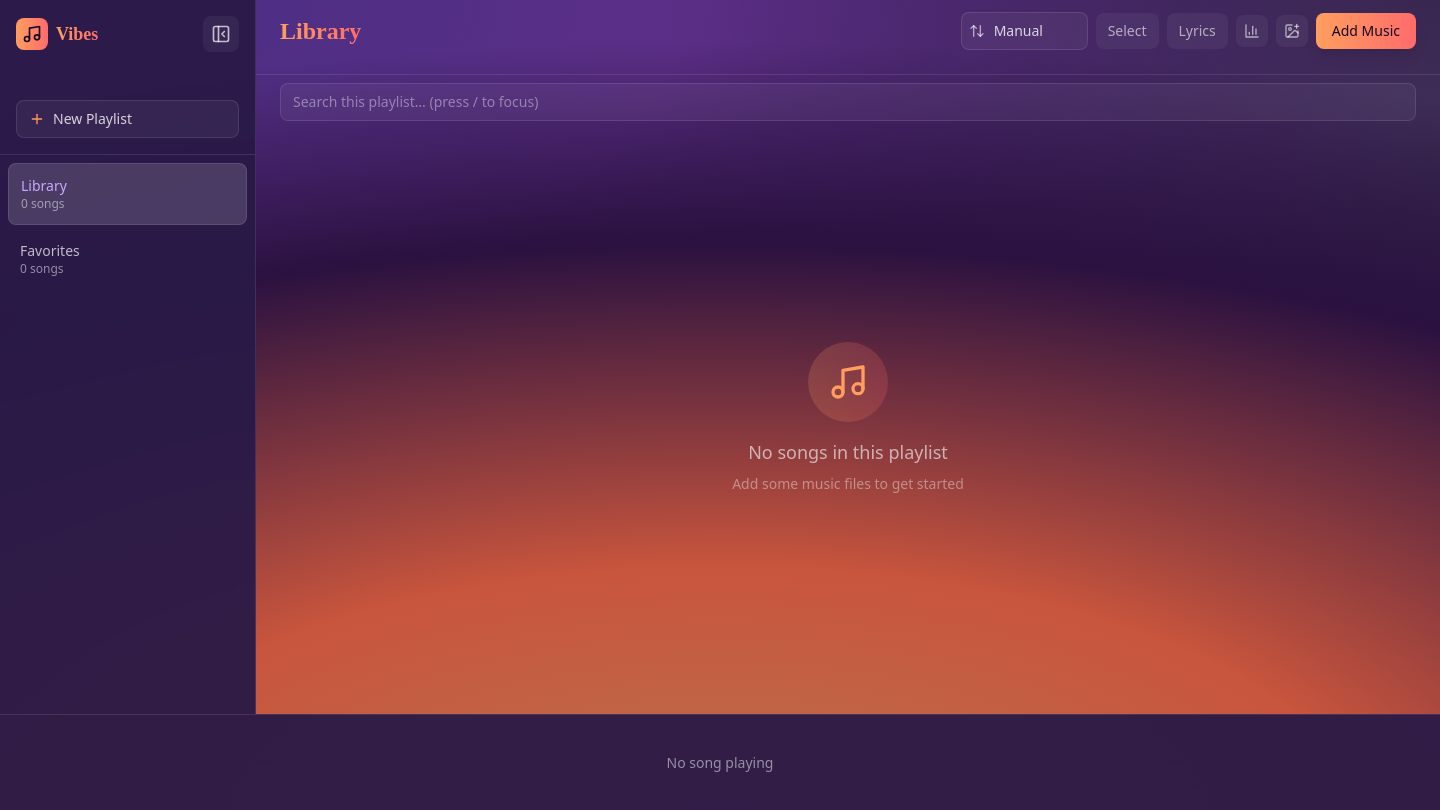
Test: App › creates a playlist through the prompt flow
Step 1. Click the button "New Playlist" → (128, 119), box [16,100,239,138]
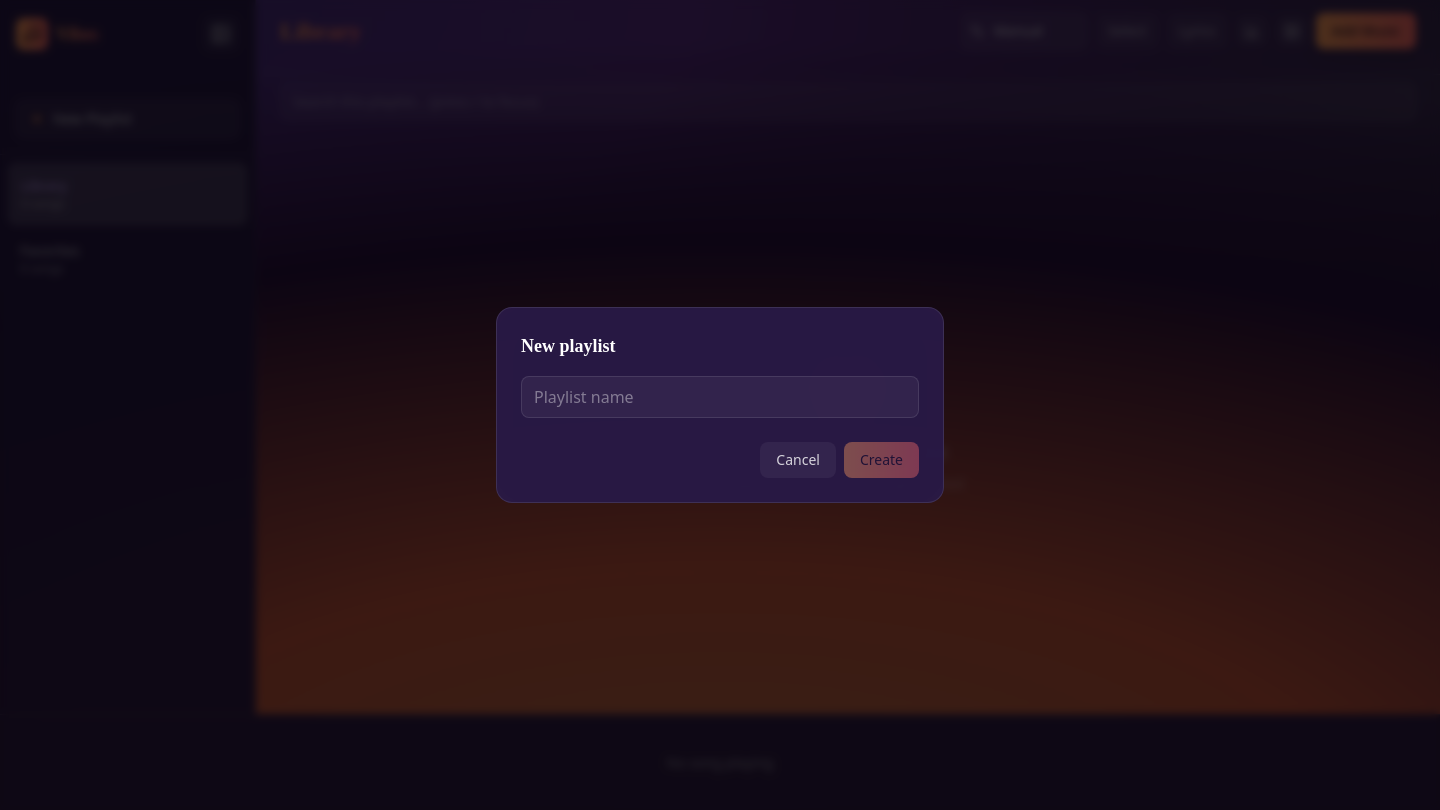
Step 2. Type "Chill" into the field with placeholder "Playlist name" → (720, 397), box [521,376,919,418]
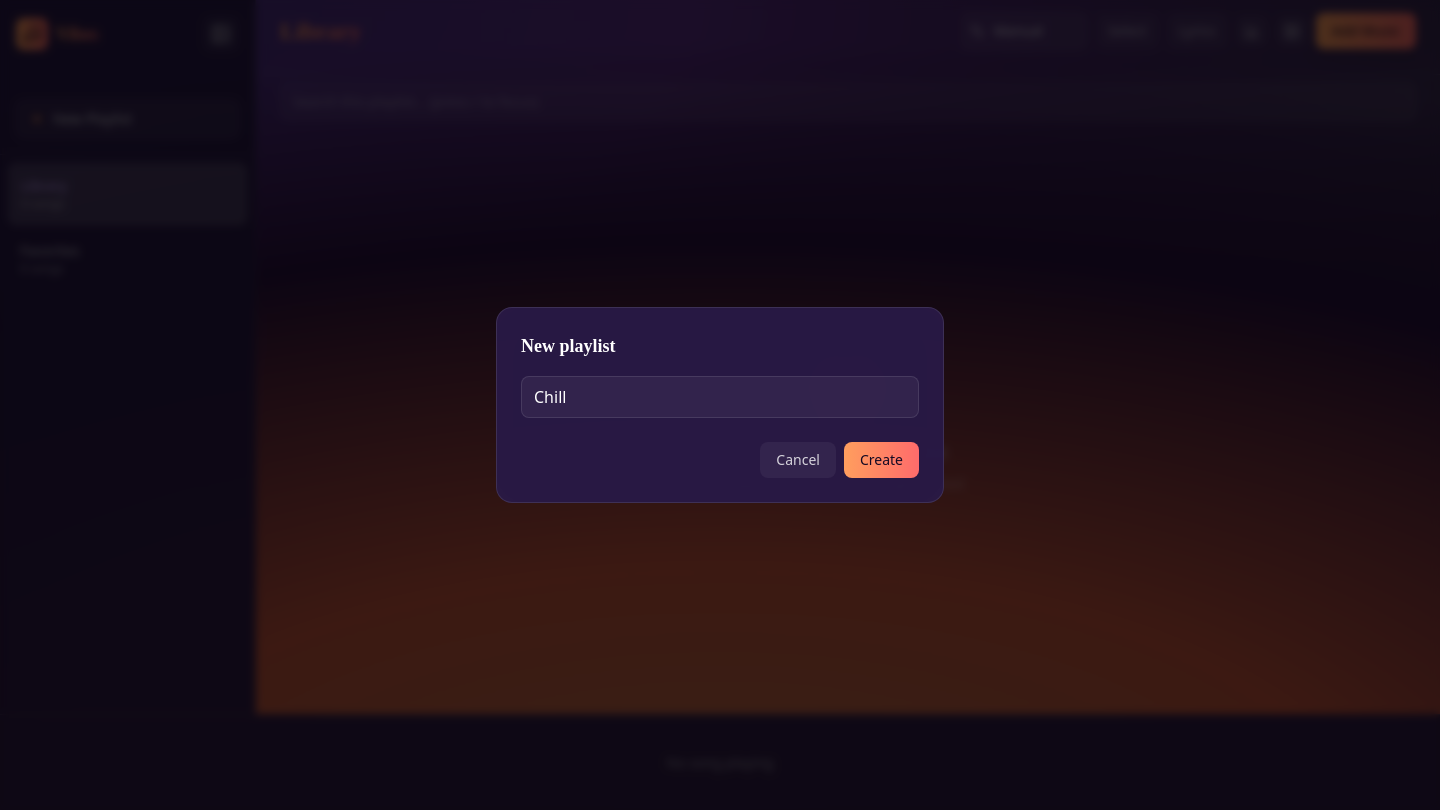
Step 3. Click the button "Create" → (881, 460), box [844,442,919,478]
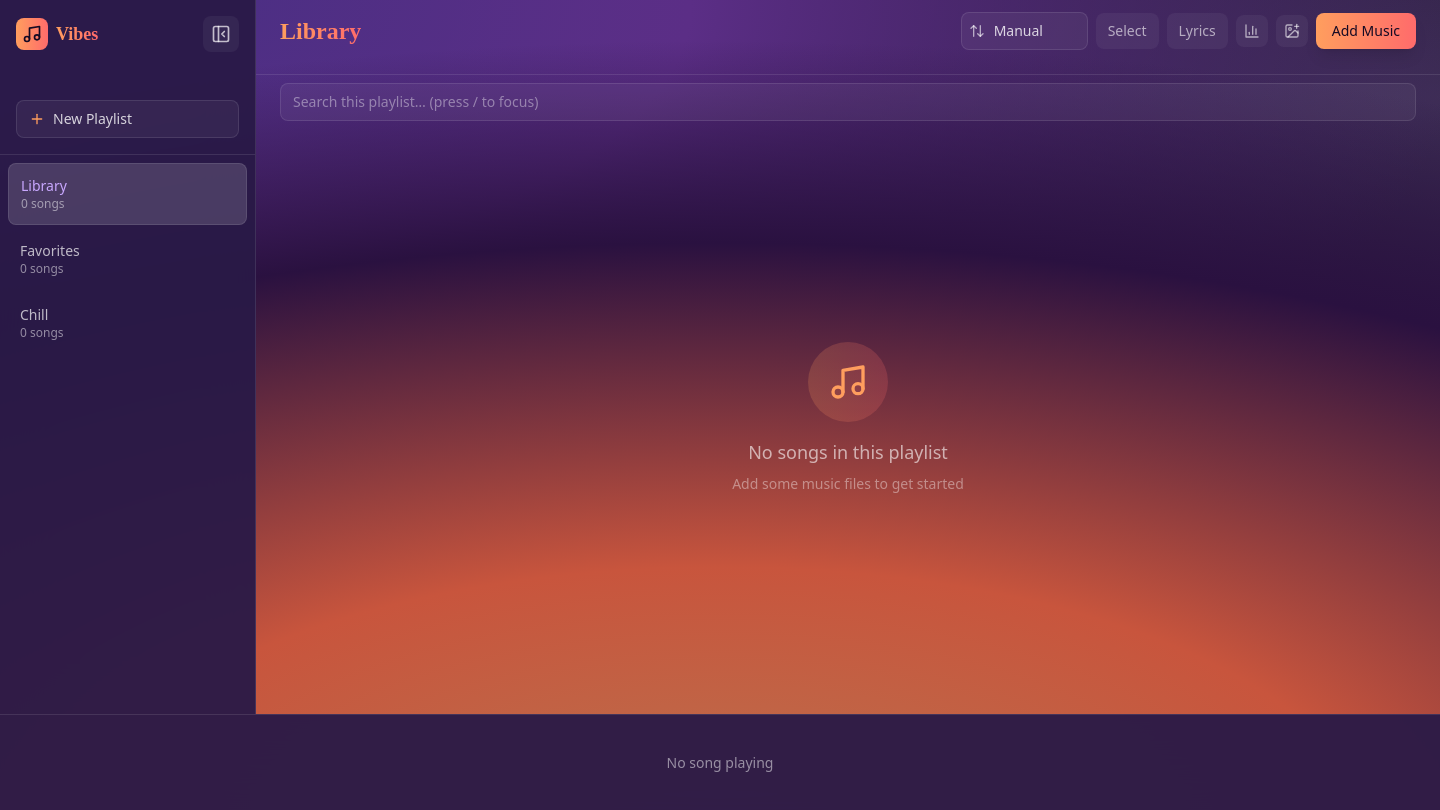
Expected: the text "Chill" is shown, [20,305,48,324]
